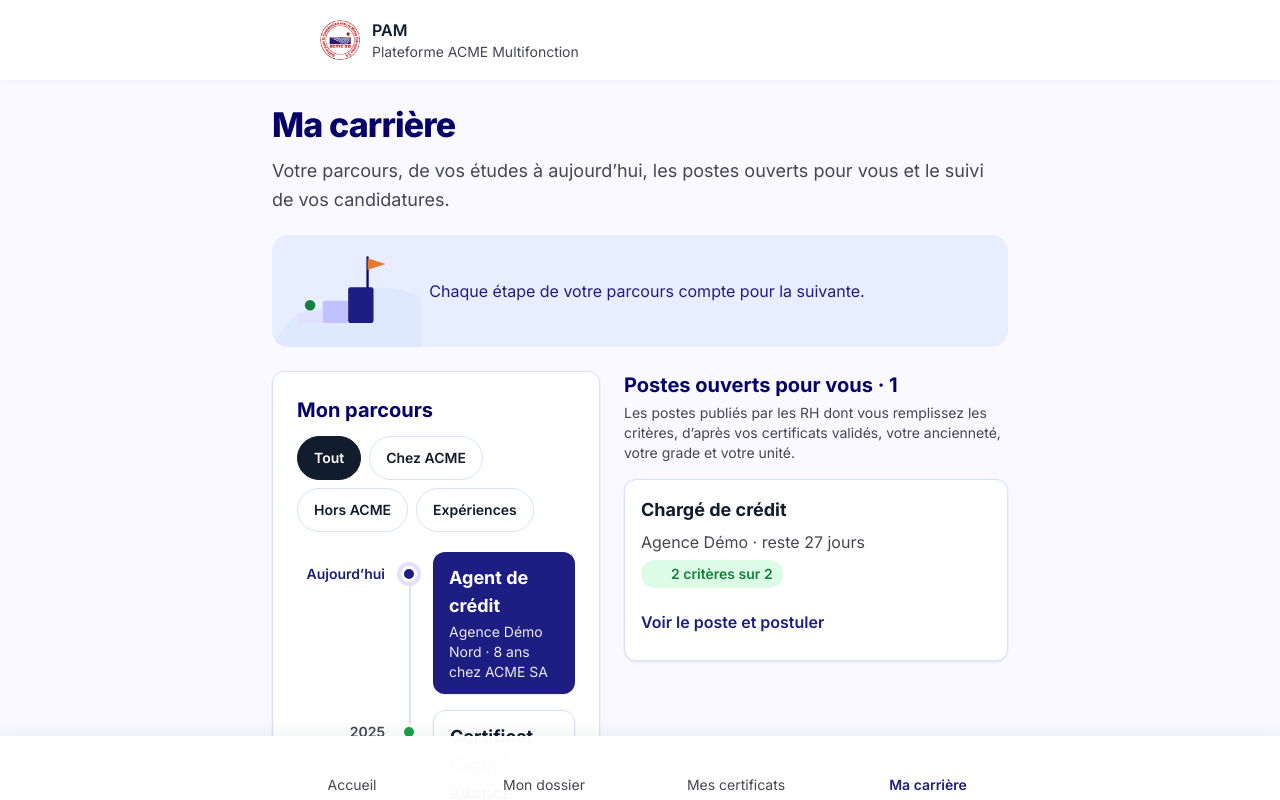
Test case: US-131 CA-03 — les postes en petites cartes, à déplier › US-119 : un poste du catalogue déplié montre son département, ses compétences et ses rubriques
Click the button "Voir le poste et postuler": (745, 622) [641, 600, 848, 644]
(page scrolled)
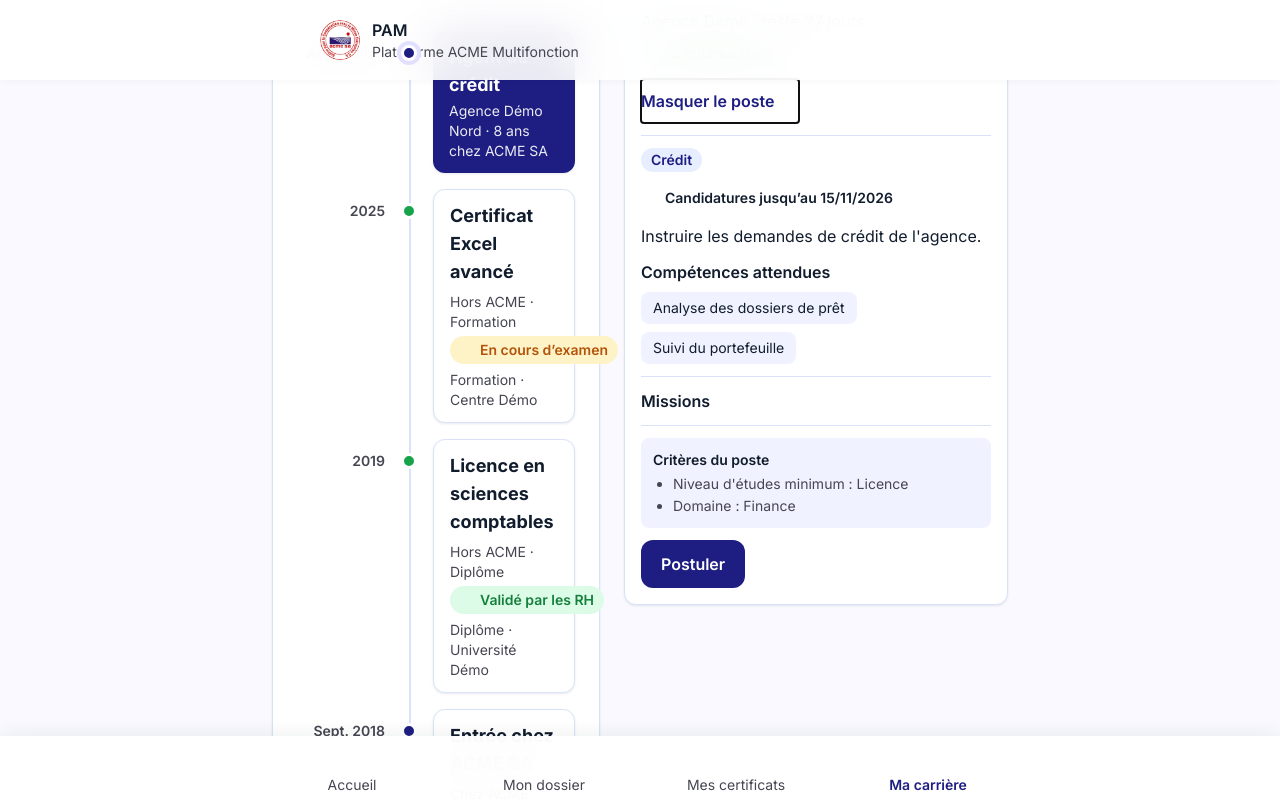
Expected: the text "Rechercher de nouveaux clients" is not shown
Result: the text "Crédit" is shown at [641, 148, 702, 172]
Result: the list item "Analyse des dossiers de prêt" is shown at [641, 292, 857, 324]
Click the heading "Missions": (676, 400) [641, 386, 991, 414]
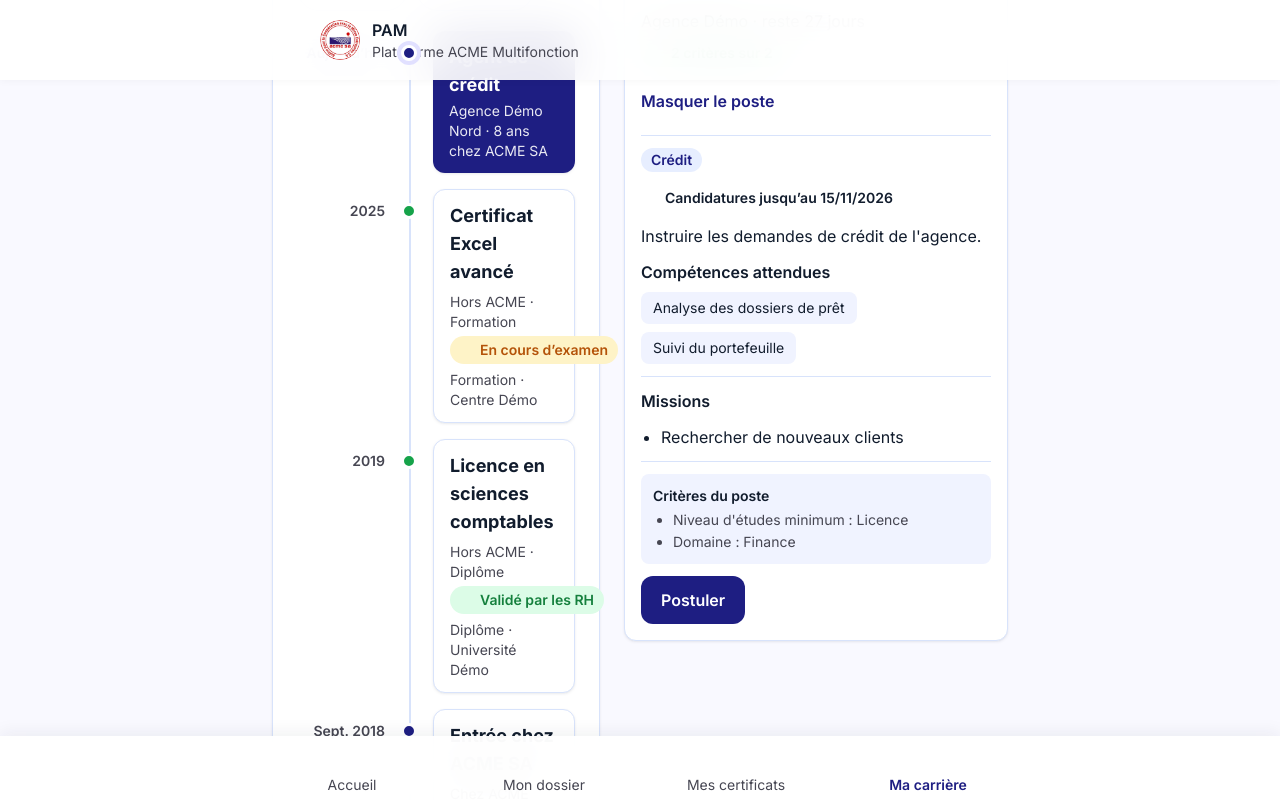
Result: the list item "Rechercher de nouveaux clients" is shown at [661, 426, 904, 446]
